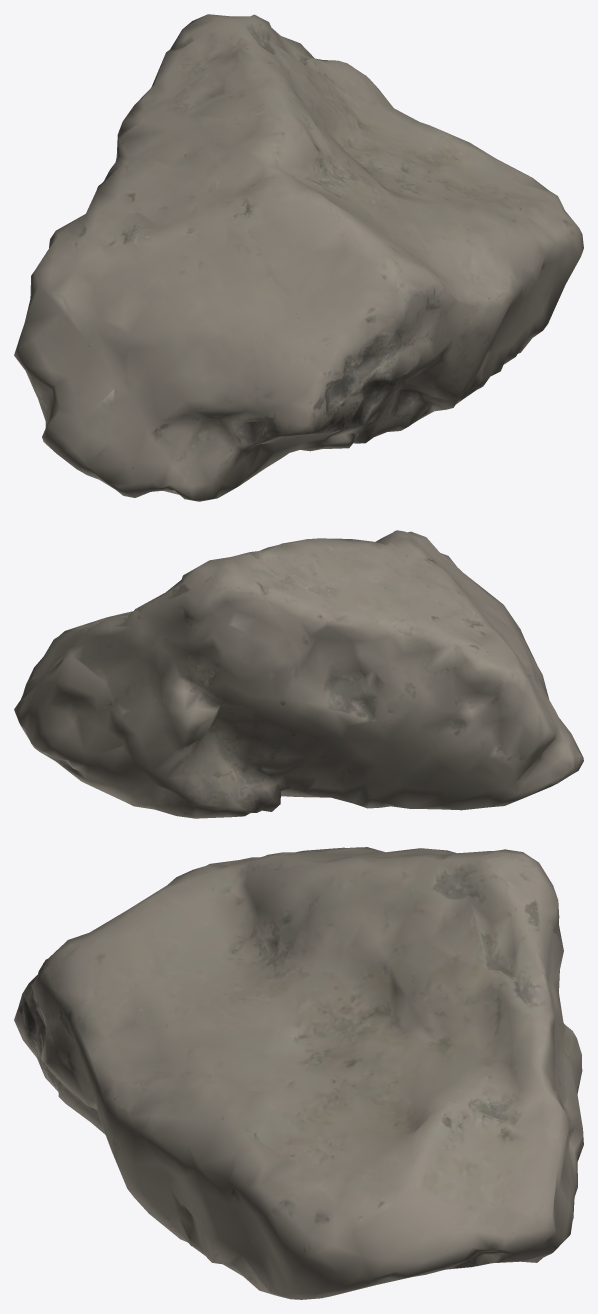
The model's file is moon_rock_03.glb.
3 renders of one model, top to bottom at view 1: azimuth 30°, elevation 25°; view 2: azimuth 150°, elevation 25°; view 3: azimuth 270°, elevation 25°, orthographic. The views are drawn at different scales.
Visible parts, largest first — view 1: moon_rock_03; view 2: moon_rock_03; view 3: moon_rock_03.
Boxes of the visible parts, <box> form: moon_rock_03: <box>14,14,583,501</box>; moon_rock_03: <box>14,530,583,818</box>; moon_rock_03: <box>14,847,583,1299</box>.
Size of the model in its own units: 0.112 by 0.0582 by 0.0862.
Materials: 1 (1 with a texture image).
